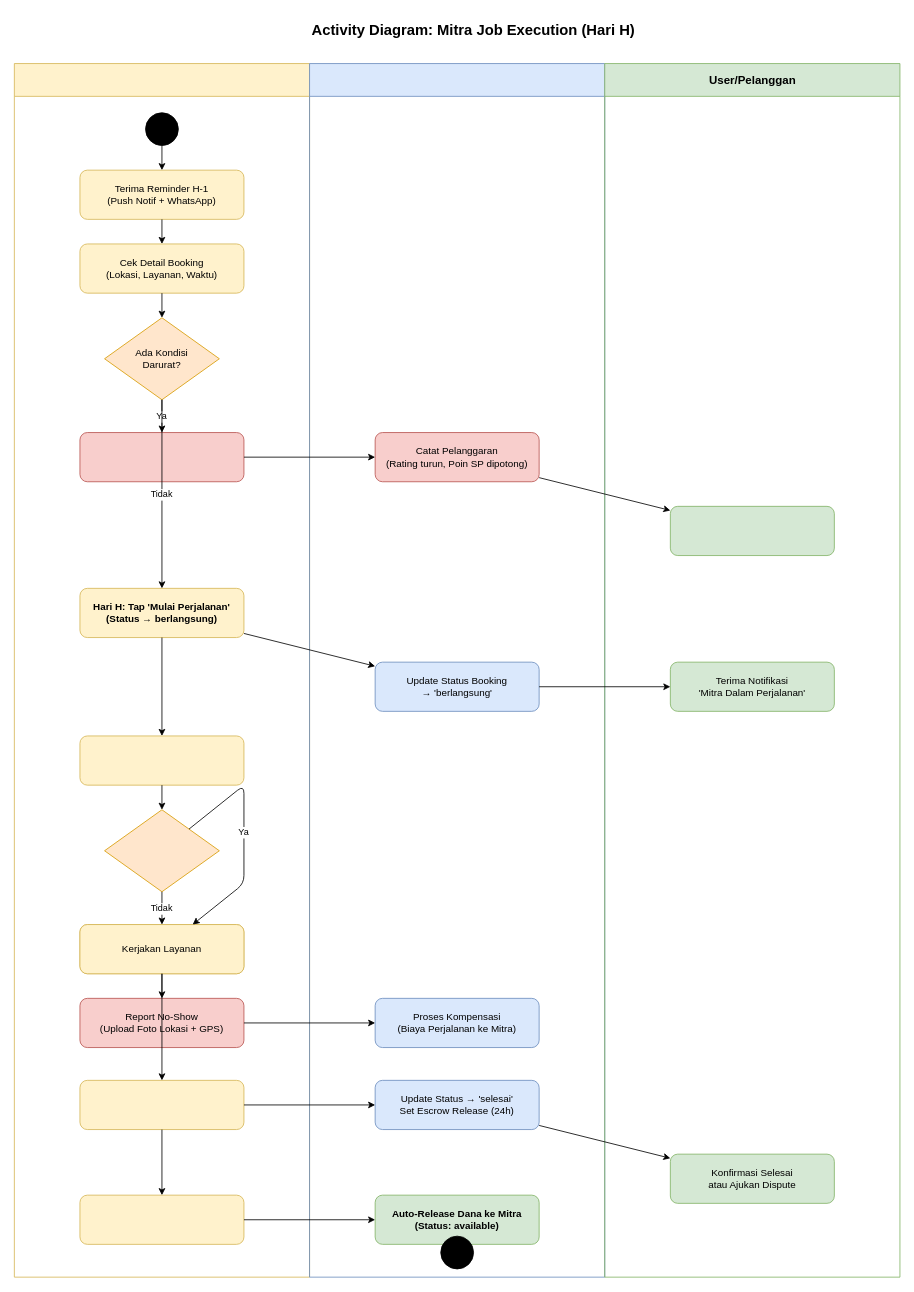
The diagram is 914 pixels wide and 1292 high, and some of its shapes have lost their labels. Each missing label, with the box of its shape:
Laporkan Pembatalan Darurat (Wajib isi alasan): (79, 432, 244, 482)
Mitra: (14, 63, 310, 1277)
Pelanggan Ada di Lokasi?: (104, 809, 219, 892)
Perjalanan ke Lokasi Pelanggan: (79, 735, 244, 785)
System: (309, 63, 605, 1277)
Tap 'Selesai' + Upload Foto Bukti Kerja: (79, 1080, 244, 1130)
Terima Notifikasi Pilihan Reschedule / Refund: (670, 506, 834, 556)
Tunggu Konfirmasi Pelanggan atau 24 Jam Auto-Release: (79, 1194, 244, 1244)
